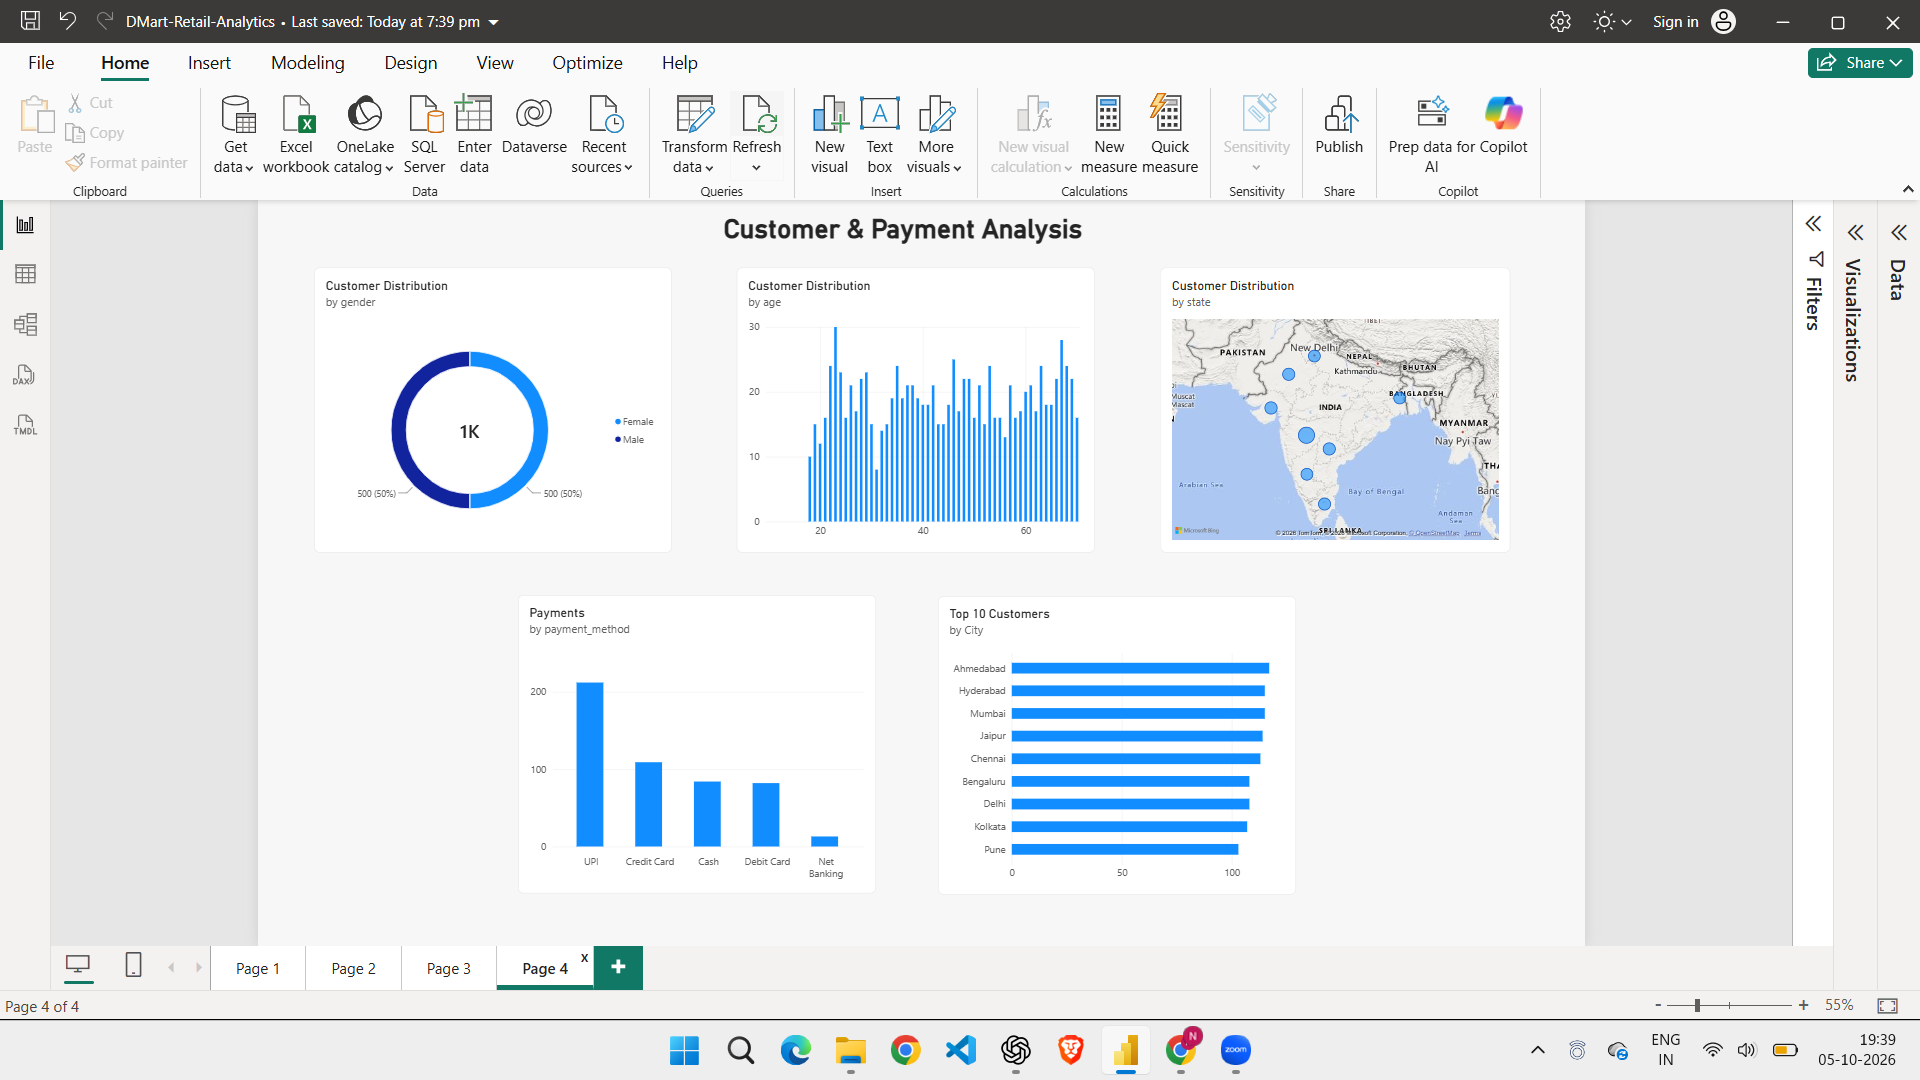

The page's visual inventory and layout, read from the dashboard file:
{"tool":"powerbi","page":{"name":"Page 4","canvas":[1920,1080],"ordinal":3},"visuals":[{"type":"donutChart","title":"Customer Distribution","fields":{"Category":["Customers.gender"],"Y":["Customers.Total Customers"]},"box":[81.4,97.7,517.6,412.6],"z":0},{"type":"clusteredColumnChart","title":"Customer Distribution","fields":{"Category":["Customers.age"],"Y":["Customers.Total Customers"]},"box":[693.1,97.7,518.2,412.9],"z":1000},{"type":"map","title":"Customer Distribution","fields":{"Category":["Customers.state"],"Size":["Customers.Total Customers"]},"box":[1306.6,97.7,506.7,412.6],"z":2000},{"type":"clusteredColumnChart","title":"Payments","fields":{"Category":["Payments.payment_method"],"Y":["Payments.Total Payments"]},"box":[376.4,571.9,518.2,432.3],"z":3000},{"type":"clusteredBarChart","title":"Top 10 Customers","fields":{"Category":["Customers.city"],"Y":["Customers.Total Customers"]},"box":[984.5,573.7,518.2,432.3],"z":4000},{"type":"textbox","box":[54.3,0,1759,97.7],"z":4002}]}

Visuals, with their boxes on the page's 1920x1080 design canvas (x1, y1, x2, y2). These are canvas units, not pixel positions in the 1920x1080 screenshot, which may show the page scaled, cropped or inside an application window:
"Customer Distribution" donutChart: [left=81, top=98, right=599, bottom=510]
"Customer Distribution" clusteredColumnChart: [left=693, top=98, right=1211, bottom=511]
"Customer Distribution" map: [left=1307, top=98, right=1813, bottom=510]
"Payments" clusteredColumnChart: [left=376, top=572, right=895, bottom=1004]
"Top 10 Customers" clusteredBarChart: [left=984, top=574, right=1503, bottom=1006]
textbox: [left=54, top=0, right=1813, bottom=98]
